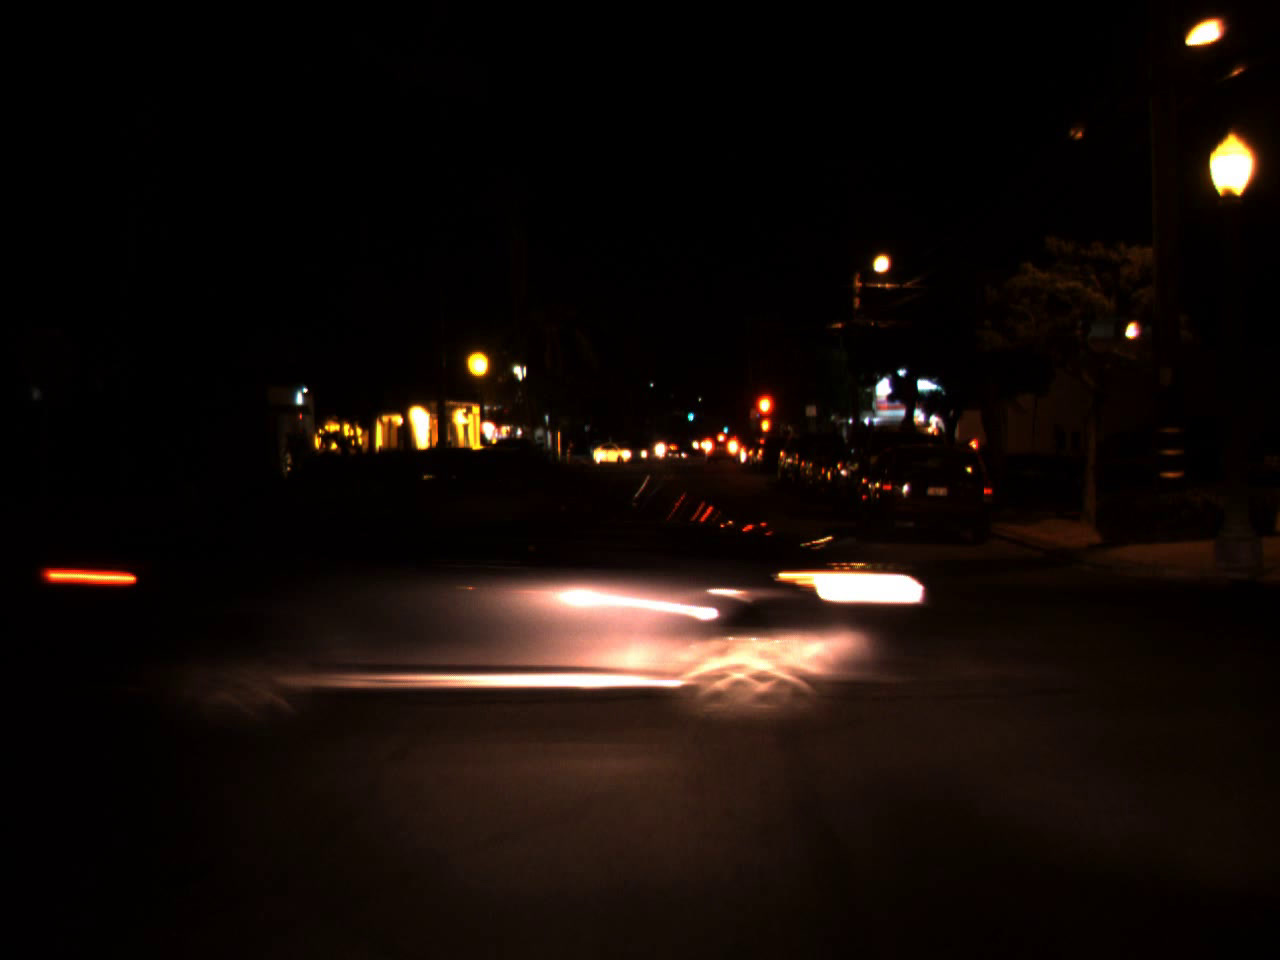go: (685, 405, 694, 423), (722, 422, 729, 434)
stop: (754, 391, 778, 439)
